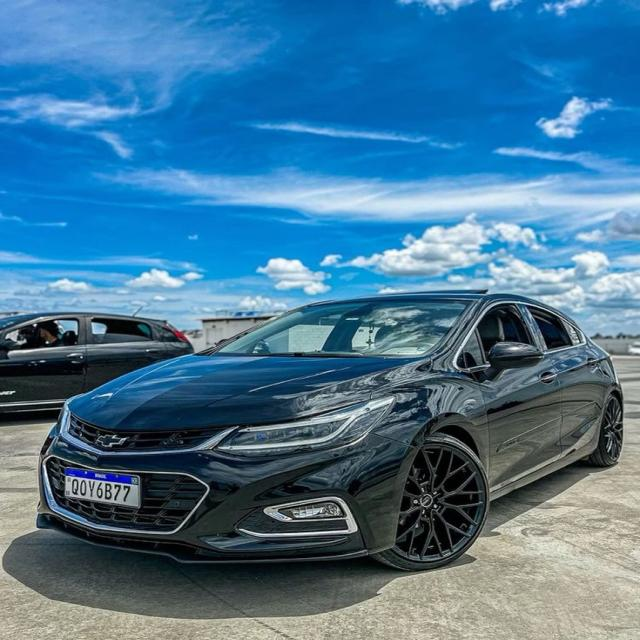Placas: (63, 466, 142, 509)
